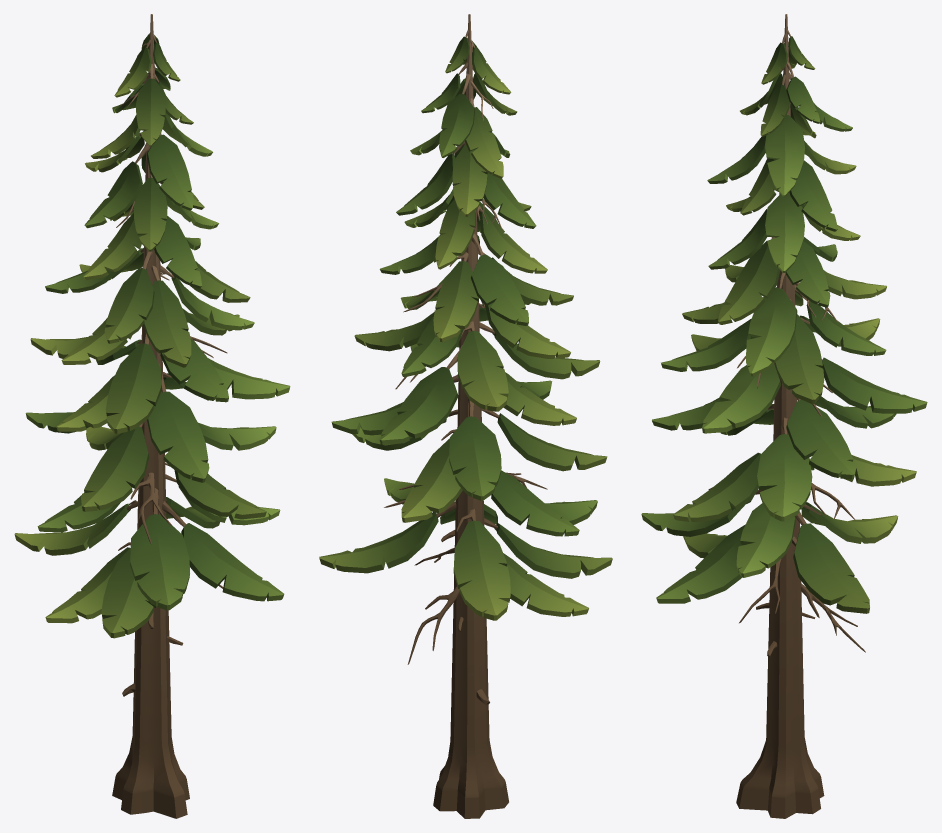
The model's file is Tree_04.fbx.
3 views of the same model, side by side, from view 1: azimuth 30°, elevation 25°; view 2: azimuth 150°, elevation 25°; view 3: azimuth 270°, elevation 25° (orthographic).
Parts seen in each view (by area): view 1: Tree_04_LOD0; view 2: Tree_04_LOD0; view 3: Tree_04_LOD0.
Part boxes in pixels (<box>): Tree_04_LOD0: <box>14,14,290,818</box>; Tree_04_LOD0: <box>319,14,612,818</box>; Tree_04_LOD0: <box>641,14,927,818</box>.
Size of what is drawn, in the model's own units: 3.83 by 12.25 by 4.03.
